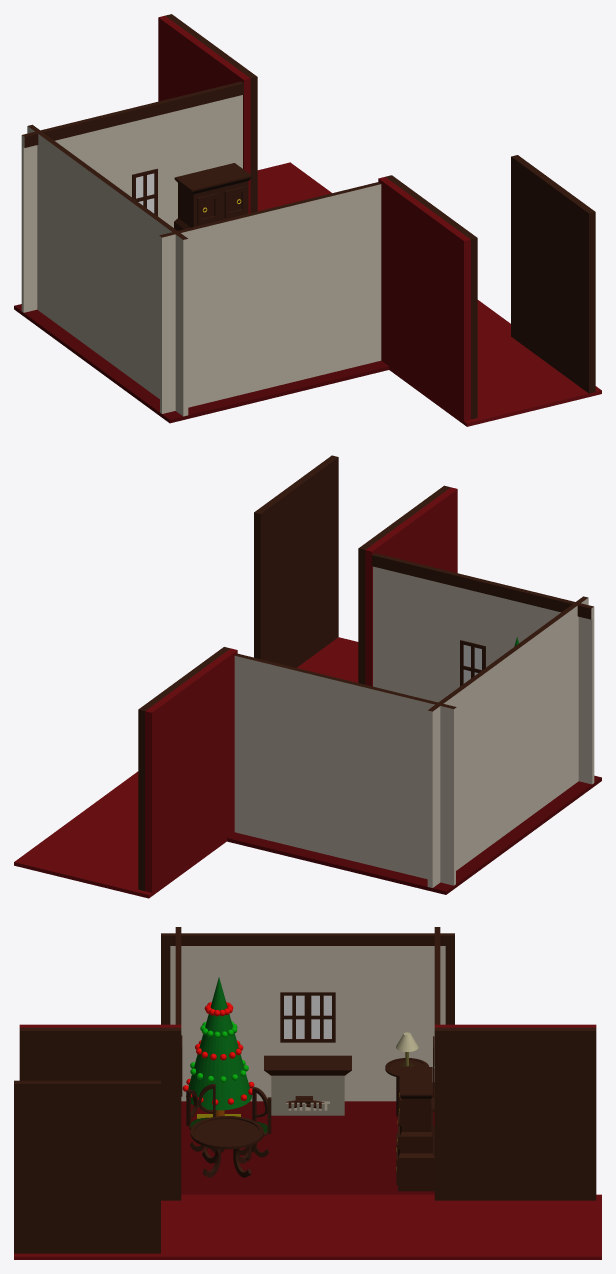
File: Room2asOne.fbx
3 views of the same model, one above another, from view 1: azimuth 30°, elevation 25°; view 2: azimuth 150°, elevation 25°; view 3: azimuth 270°, elevation 25° (orthographic). The views are drawn at different scales.
Visible parts, largest first — view 1: FloorWall.004; view 2: FloorWall.004; view 3: FloorWall.004.
Part boxes in pixels (x1,y1,x2,y2): FloorWall.004: (14, 14, 601, 426); FloorWall.004: (14, 455, 601, 898); FloorWall.004: (14, 927, 601, 1259).
Size of the model in its own units: 10500 by 5201 by 16000.
